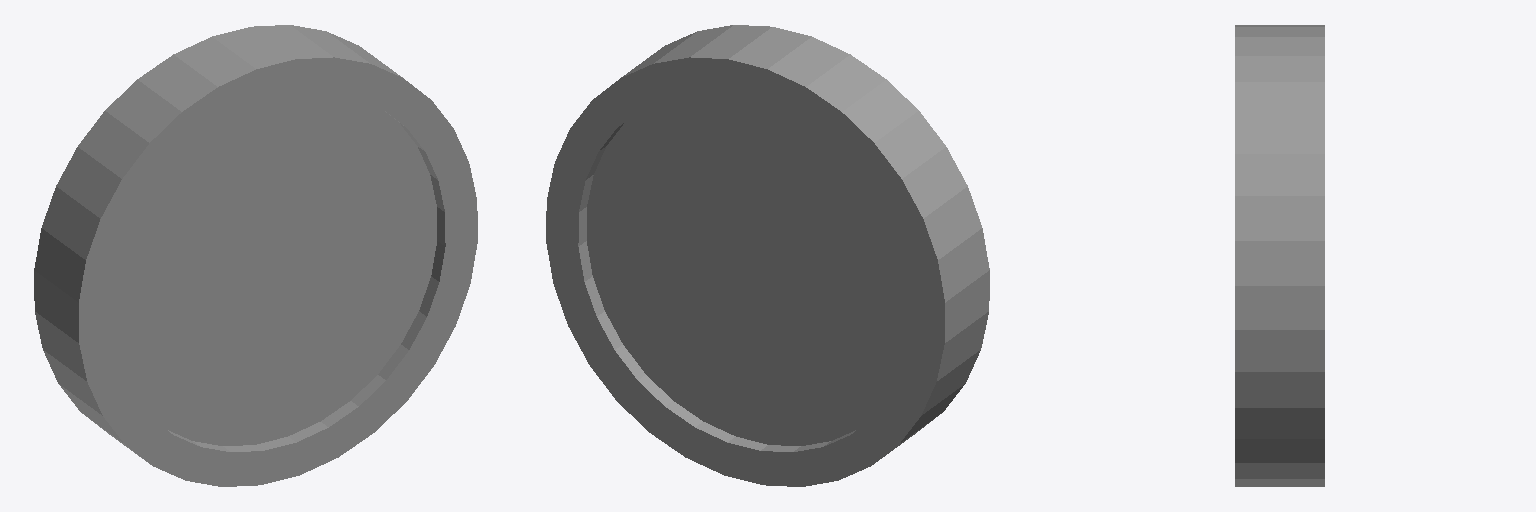
File: BitCoin.obj
3 renders of one model, left to right at view 1: azimuth 30°, elevation 25°; view 2: azimuth 150°, elevation 25°; view 3: azimuth 270°, elevation 25°, orthographic.
Parts seen in each view (by area): view 1: Cylinder; view 2: Cylinder; view 3: Cylinder.
Part boxes in pixels (left/top/right/bottom): Cylinder: left=34, top=25, right=477, bottom=486; Cylinder: left=546, top=25, right=989, bottom=486; Cylinder: left=1235, top=25, right=1324, bottom=486.
Bounding box in the file's own units: 1.99 × 1.99 × 0.3861.